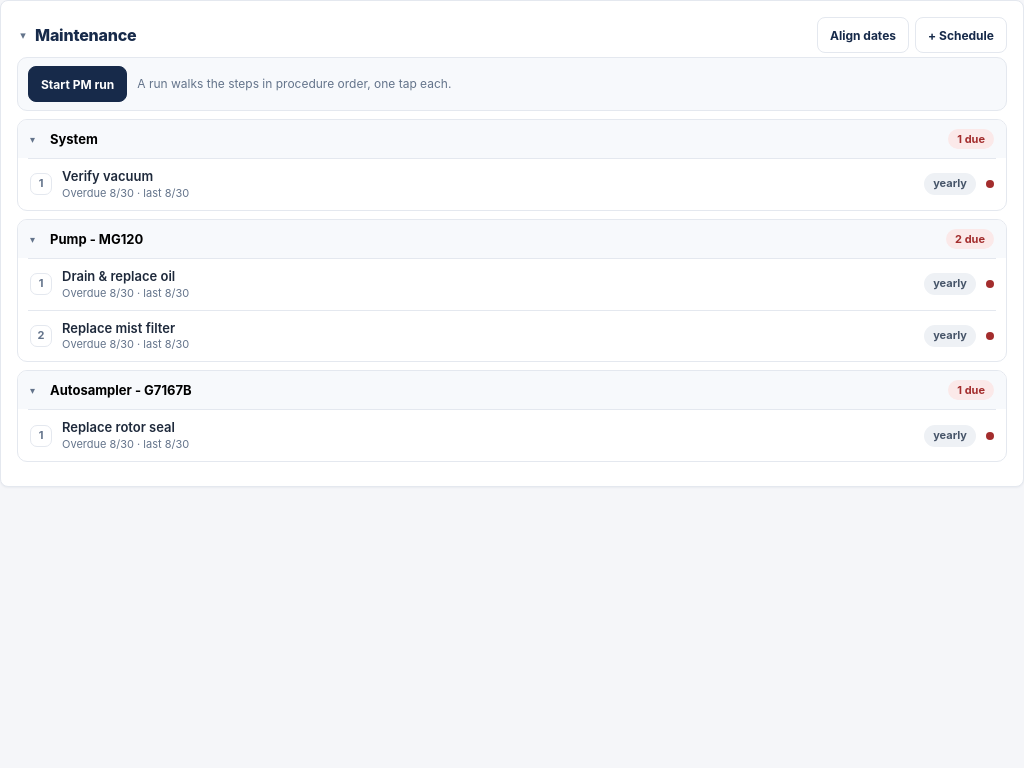
Test: the pile becomes modules › shows the parts, and the request button, inside the opened row
Click the text "Replace mist filter" at [119, 328], box [62,320,175,336]
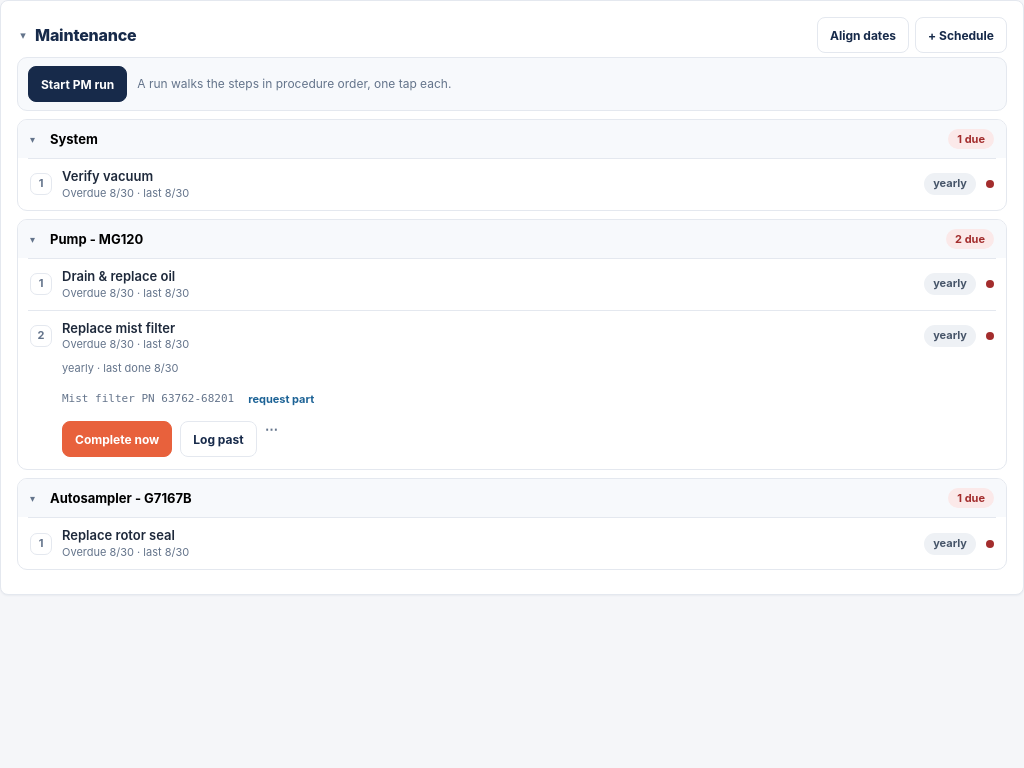
Check: the text "Mist filter PN 63762-68201" is shown, box [62,391,234,407]
Check: the button "request part" is shown, box [242,383,320,415]
